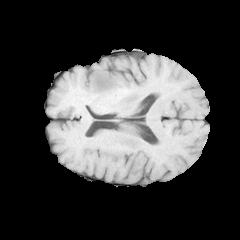glioma: (92, 72, 119, 95)
